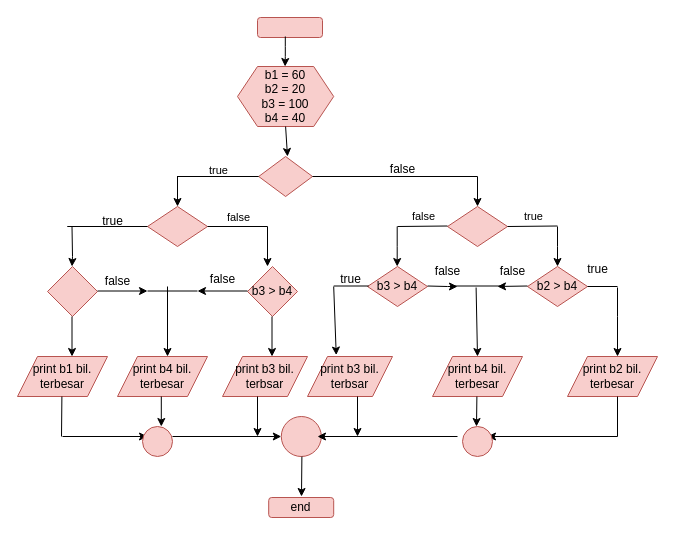
Some shapes in this 675 by 535 pixel diagram are drawn without their labels. Each missing label, with the centre of its shape:
b1 > b2: (285,176)
b1 > b3: (177,226)
b1 > b4: (72,291)
b2 > b3: (477,226)
start: (289,27)
